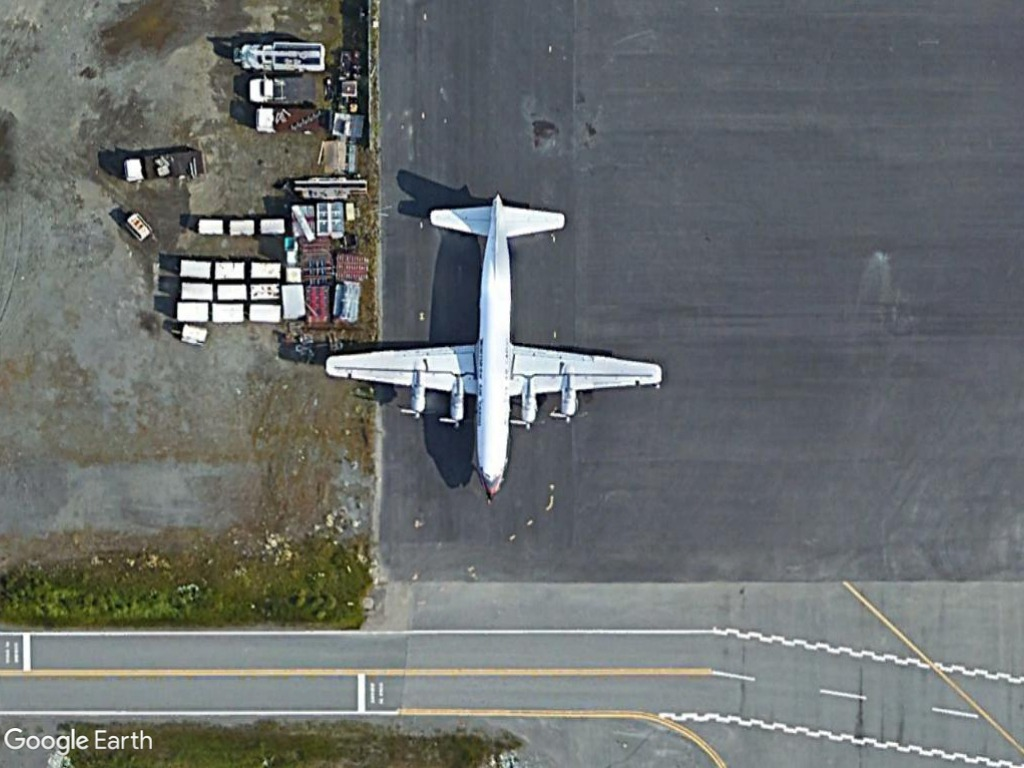propeller: (314, 185, 669, 506)
